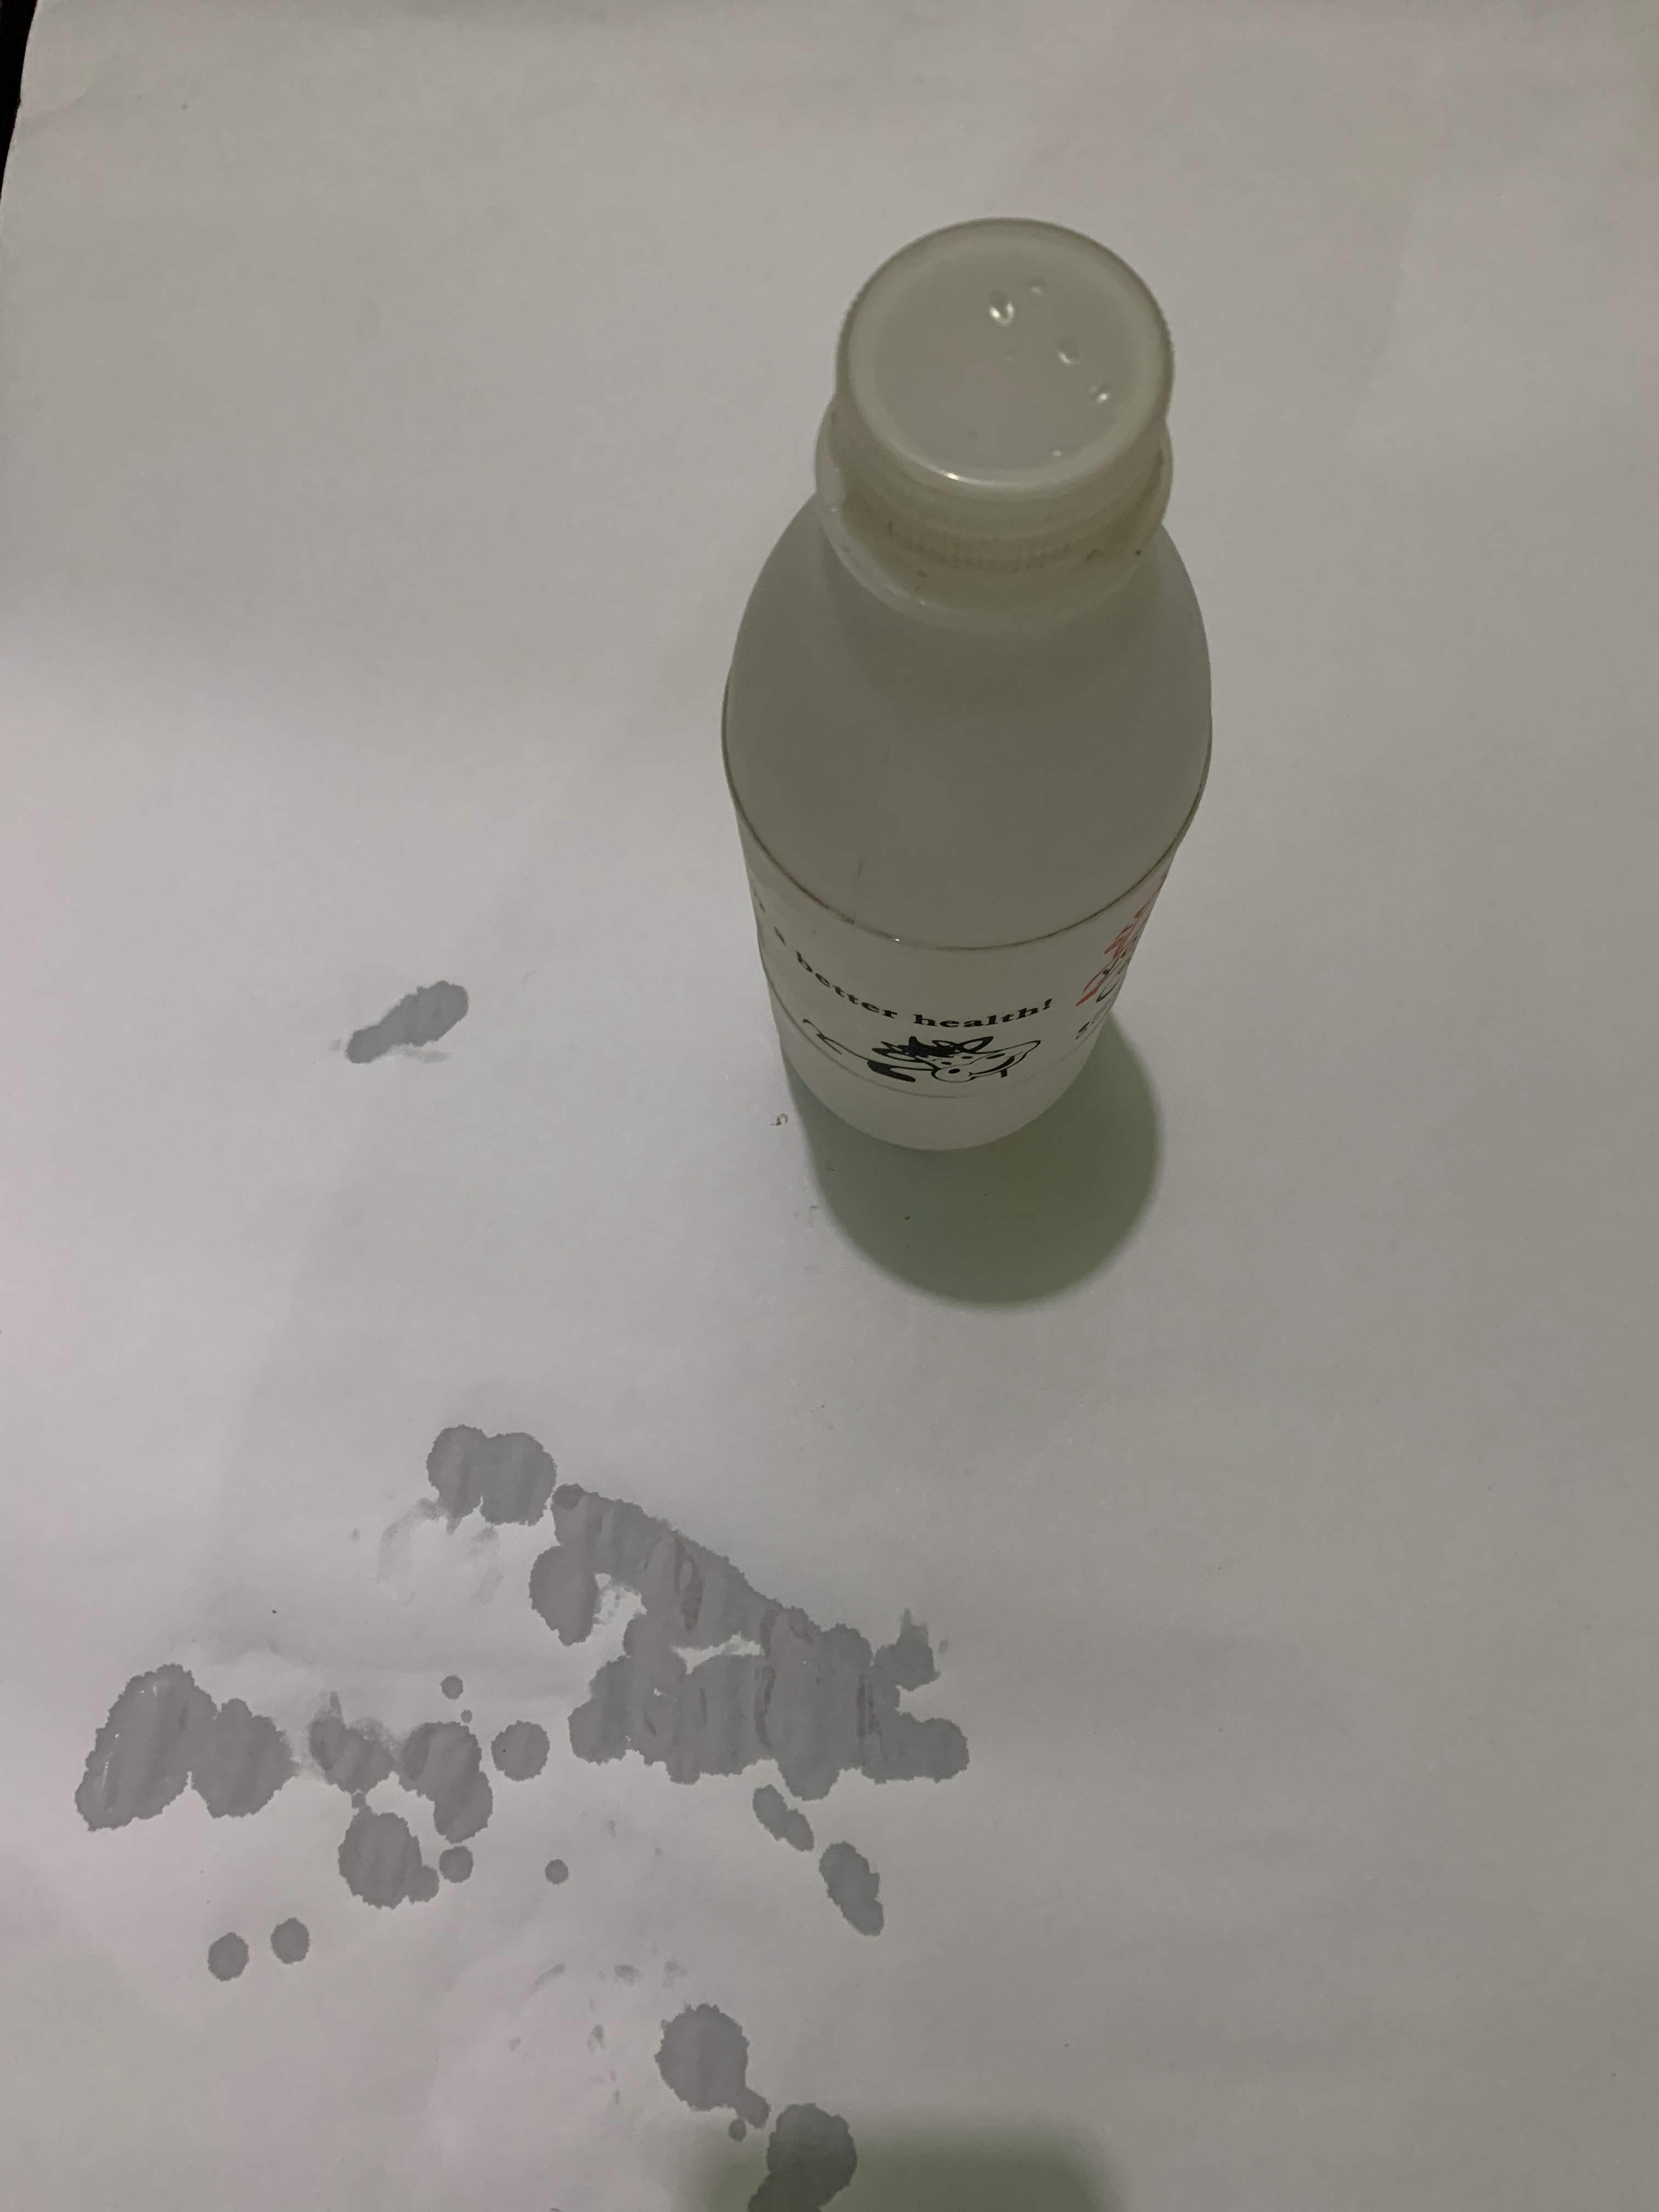bottle: (0, 204, 394, 1169)
